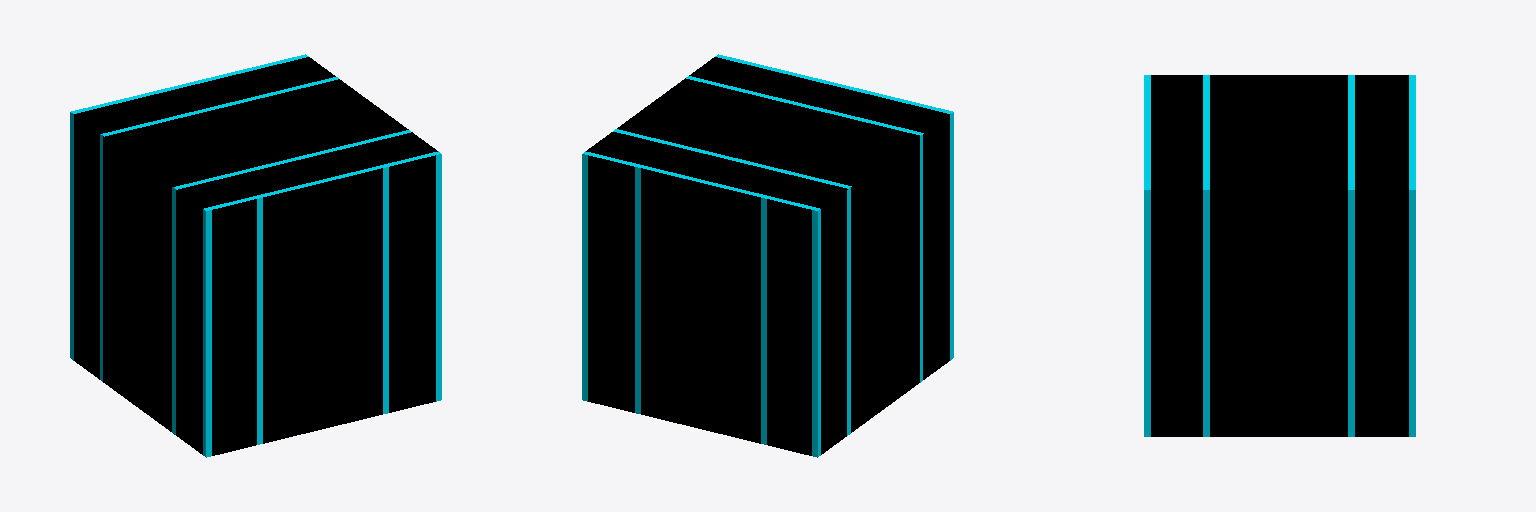
The picture shows the model from 3 angles: view 1: azimuth 30°, elevation 25°; view 2: azimuth 150°, elevation 25°; view 3: azimuth 270°, elevation 25°; orthographic projection.
Visible parts, largest first — view 1: Cube; view 2: Cube; view 3: Cube.
Part boxes in pixels (x1,y1,x2,y2): Cube: (70, 54, 441, 457); Cube: (582, 54, 953, 457); Cube: (1144, 75, 1415, 436).
Size of the model in its own units: 2 by 2 by 2.
1 materials, 1 textured.